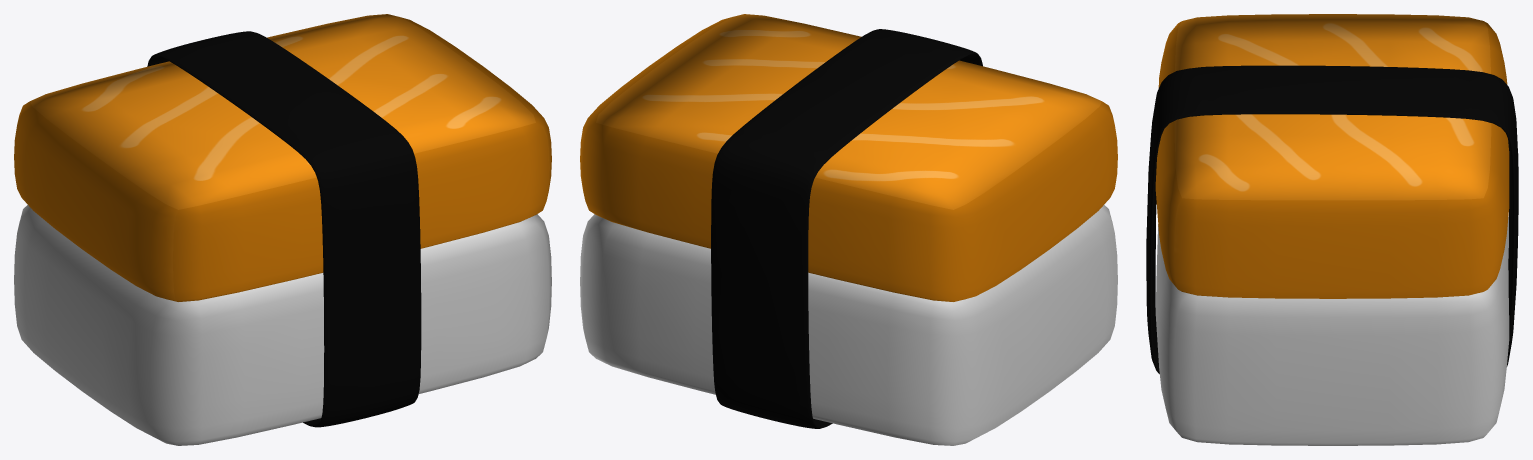
File: Sushi.fbx
3 views of the same model, side by side, from view 1: azimuth 30°, elevation 25°; view 2: azimuth 150°, elevation 25°; view 3: azimuth 270°, elevation 25° (orthographic).
Visible parts, largest first — view 1: Sushi, Riso, Alga; view 2: Sushi, Riso, Alga; view 3: Sushi, Riso, Alga.
Boxes of the visible parts, x1,y1,x2,y2 form: Sushi: (14,14,551,301); Riso: (14,205,551,445); Alga: (147,31,421,427); Sushi: (580,14,1117,301); Riso: (580,205,1117,445); Alga: (711,29,982,428); Sushi: (1155,14,1509,298); Riso: (1155,216,1509,445); Alga: (1146,65,1518,373).
Bounding box in the file's own units: 1.01 × 0.6436 × 0.7643.
3 materials, 1 textured.
